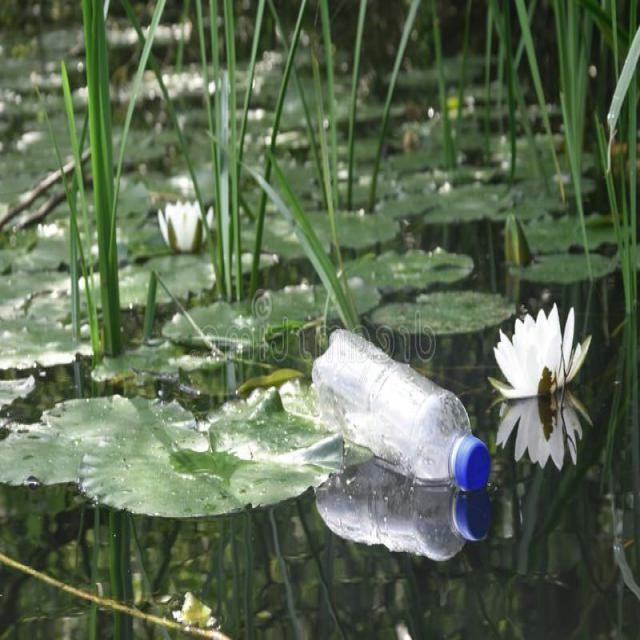Plastic: (303, 326, 488, 499)
